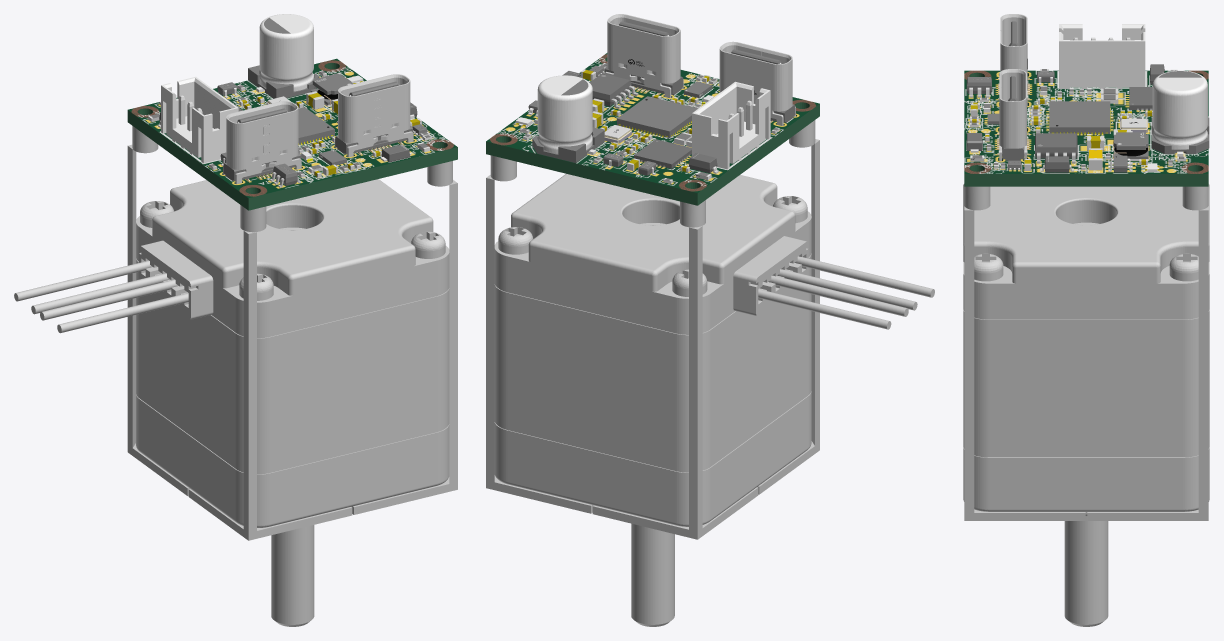
Rendered from development-assembly.glb.
3 views of the same model, side by side, from view 1: azimuth 30°, elevation 25°; view 2: azimuth 150°, elevation 25°; view 3: azimuth 270°, elevation 25° (orthographic).
Visible parts, largest first — view 1: OEM_11HS12_0674S, FRONT_CARRIER_PROPOSAL, Box0, J_PD, J_DATA, C_BULK, J_MOTOR, U_MCU, L_BUCK; view 2: OEM_11HS12_0674S, FRONT_CARRIER_PROPOSAL, Box0, J_PD, J_MOTOR, C_BULK, J_DATA, U_MCU, U_PD, U_DRV; view 3: OEM_11HS12_0674S, Box0, FRONT_CARRIER_PROPOSAL, J_MOTOR, C_BULK, J_PD, U_MCU, J_DATA, U_PD, L_BUCK, U_DRV, U_ESD (+2 smaller).
Boxes of the visible parts, <box> form: OEM_11HS12_0674S: <box>14,179,449,626</box>; FRONT_CARRIER_PROPOSAL: <box>127,126,457,540</box>; Box0: <box>127,58,457,210</box>; J_PD: <box>335,74,413,157</box>; J_DATA: <box>223,101,301,184</box>; C_BULK: <box>248,14,319,98</box>; J_MOTOR: <box>161,76,238,163</box>; U_MCU: <box>298,107,334,144</box>; L_BUCK: <box>310,74,353,106</box>; OEM_11HS12_0674S: <box>494,173,934,626</box>; FRONT_CARRIER_PROPOSAL: <box>486,120,819,539</box>; Box0: <box>486,53,819,205</box>; J_PD: <box>604,14,683,97</box>; J_MOTOR: <box>692,81,770,169</box>; C_BULK: <box>532,75,604,162</box>; J_DATA: <box>719,41,795,125</box>; U_MCU: <box>617,96,697,137</box>; U_PD: <box>589,73,638,108</box>; U_DRV: <box>634,139,691,168</box>; OEM_11HS12_0674S: <box>963,184,1209,626</box>; Box0: <box>964,70,1208,186</box>; FRONT_CARRIER_PROPOSAL: <box>964,186,1208,520</box>; J_MOTOR: <box>1059,24,1145,88</box>; C_BULK: <box>1151,70,1209,156</box>; J_PD: <box>997,69,1029,161</box>; U_MCU: <box>1049,101,1110,133</box>; J_DATA: <box>998,14,1029,106</box>; U_PD: <box>1035,133,1077,163</box>; L_BUCK: <box>1113,132,1148,160</box>; U_DRV: <box>1129,87,1152,110</box>; U_ESD: <box>966,77,991,97</box>.
Size of the model in its own units: 48.2 by 70.55 by 28.2.
29 materials, 2 textured.
